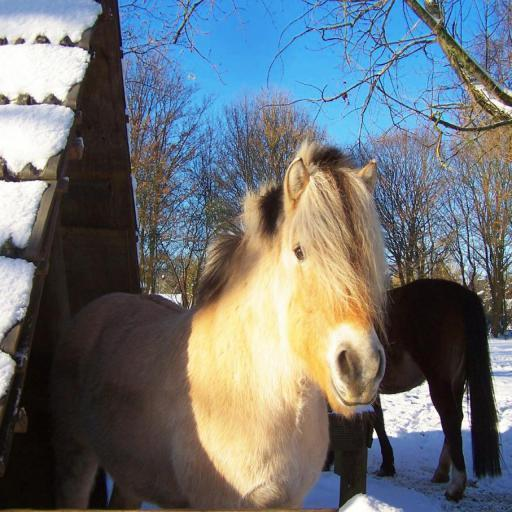horse: (54, 134, 390, 512), (322, 279, 502, 504)
